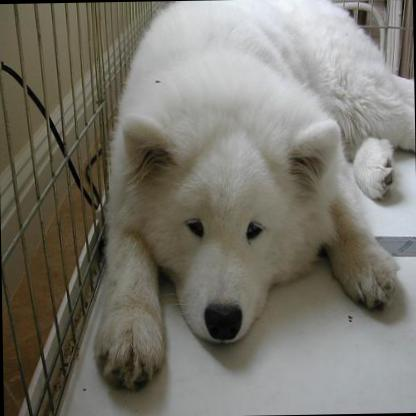Samoyed: (85, 0, 416, 392)
